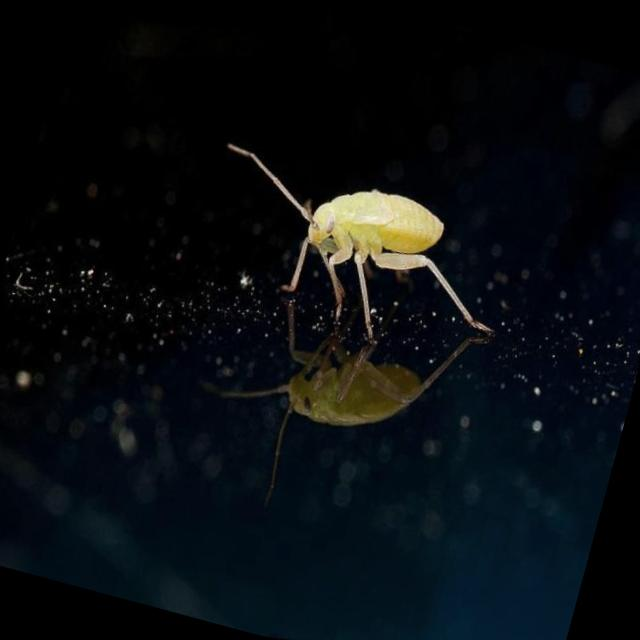aphid: (168, 88, 536, 386)
